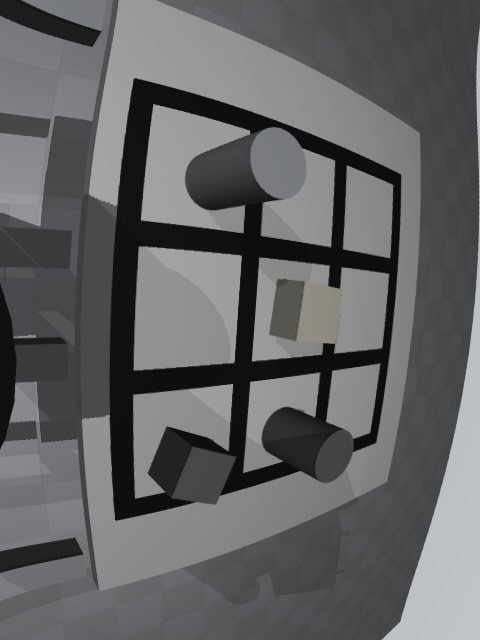can: (185, 127, 307, 210)
cube: (147, 426, 236, 505)
cylinder: (261, 407, 354, 483)
foam: (269, 279, 344, 344)
